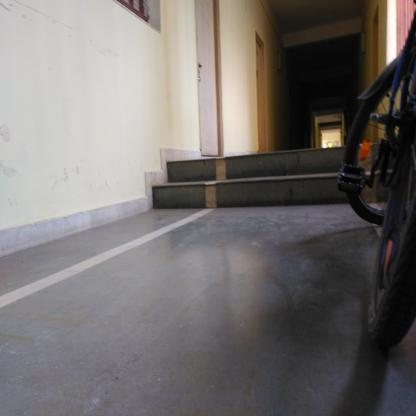stairs: (169, 153, 338, 216)
